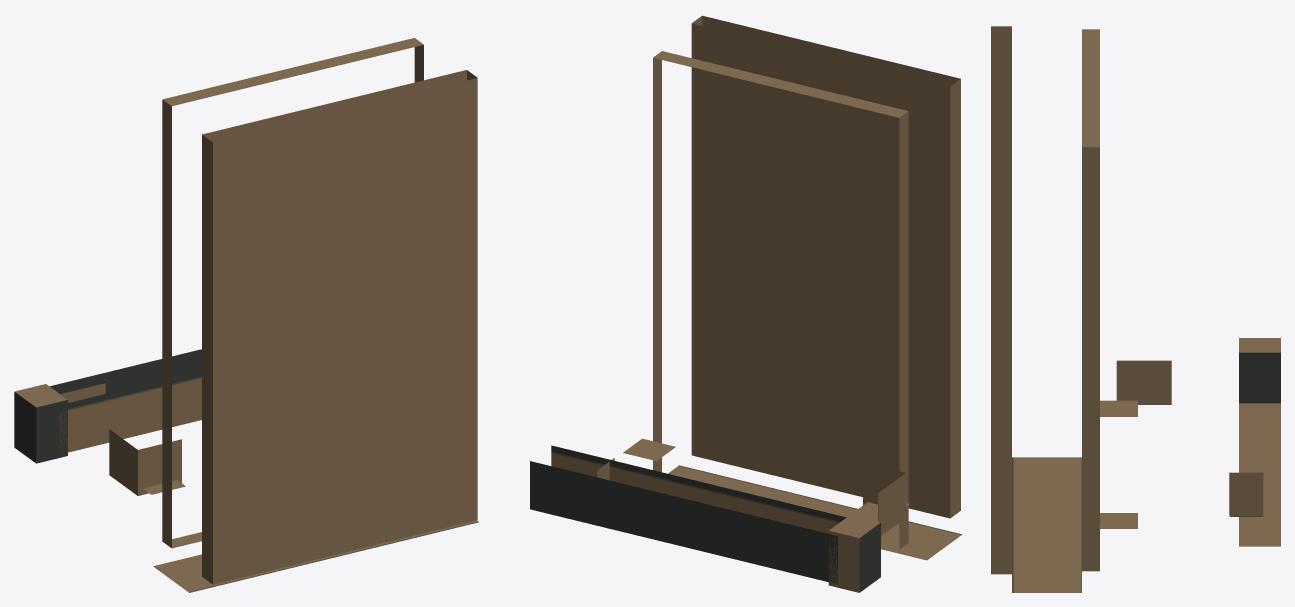
The model's file is section-5.obj.
The picture shows the model from 3 angles, left to right: view 1: azimuth 30°, elevation 25°; view 2: azimuth 150°, elevation 25°; view 3: azimuth 270°, elevation 25°; orthographic projection. The views are drawn at different scales.
Size of the model in its own units: 0.57 by 0.7 by 0.415.
